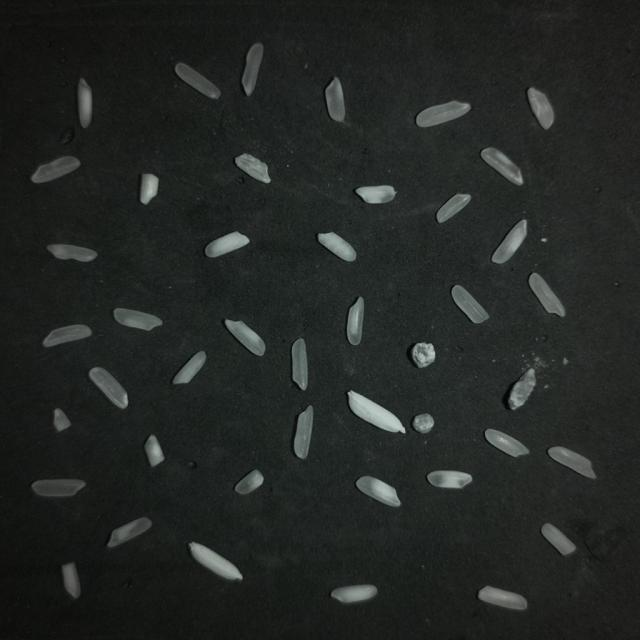broken: (541, 523, 576, 555), (235, 470, 264, 494), (54, 409, 71, 431)
chalky: (492, 220, 526, 264), (225, 320, 265, 356), (356, 476, 400, 506), (478, 586, 527, 610), (205, 232, 249, 258), (318, 232, 356, 261), (173, 351, 206, 384), (527, 88, 553, 129), (235, 154, 271, 183), (331, 585, 377, 603), (427, 470, 472, 488), (77, 78, 92, 128), (355, 185, 396, 203), (61, 563, 80, 598), (145, 435, 164, 466), (140, 174, 158, 204)
foreign: (348, 391, 405, 433), (189, 542, 242, 580), (508, 369, 536, 409), (412, 343, 435, 368), (412, 414, 434, 433)
whole: (175, 63, 220, 99), (89, 367, 128, 408), (481, 148, 523, 185), (529, 273, 565, 316), (548, 447, 596, 479), (452, 285, 489, 323), (416, 101, 470, 127), (107, 517, 151, 547), (31, 157, 80, 183), (485, 429, 529, 457), (114, 308, 163, 331), (242, 43, 263, 96), (43, 325, 91, 347), (294, 405, 313, 459), (437, 194, 471, 223), (32, 479, 85, 496), (47, 244, 97, 262), (325, 78, 345, 122), (347, 297, 364, 345), (292, 339, 308, 389)
